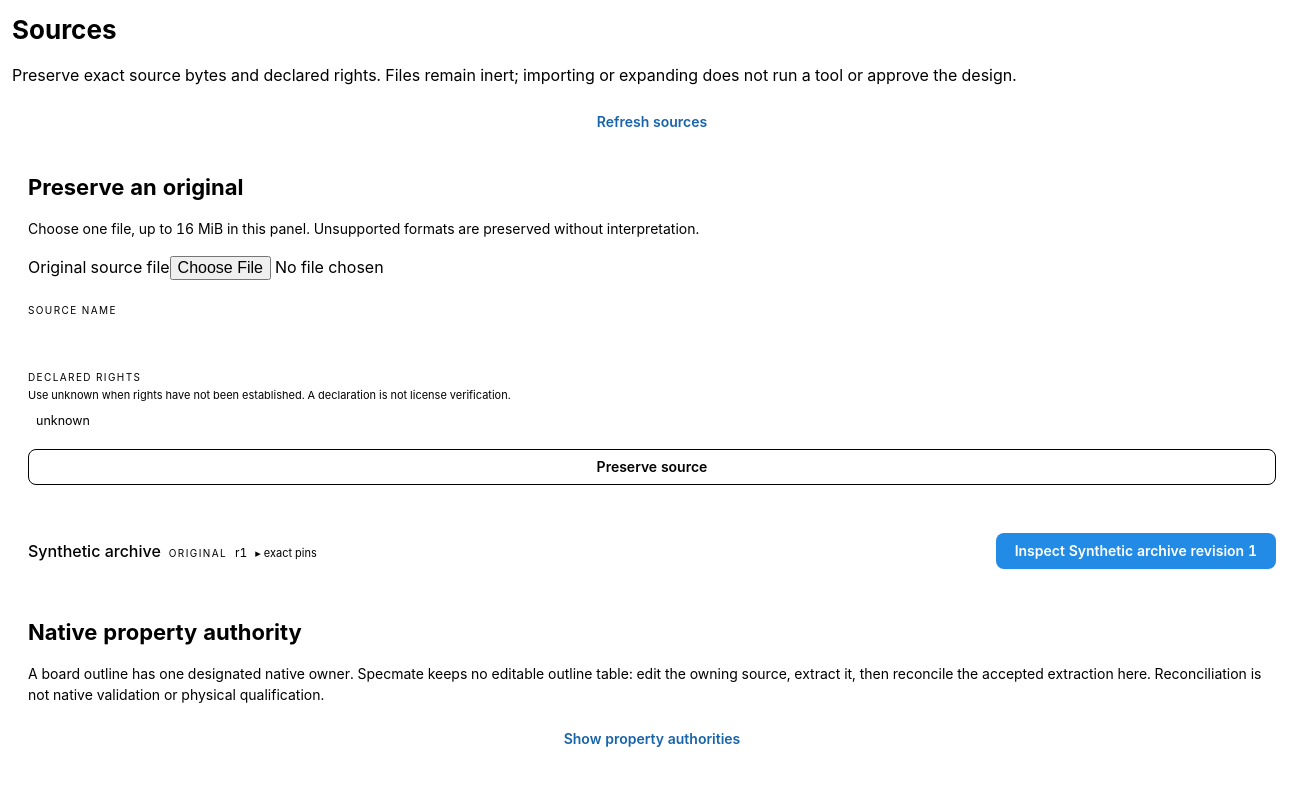
Test: project change discards the prior detail and late response
Step 1. Click the button "Inspect Synthetic archive revision 1" → (1136, 551), box [996,533,1276,569]
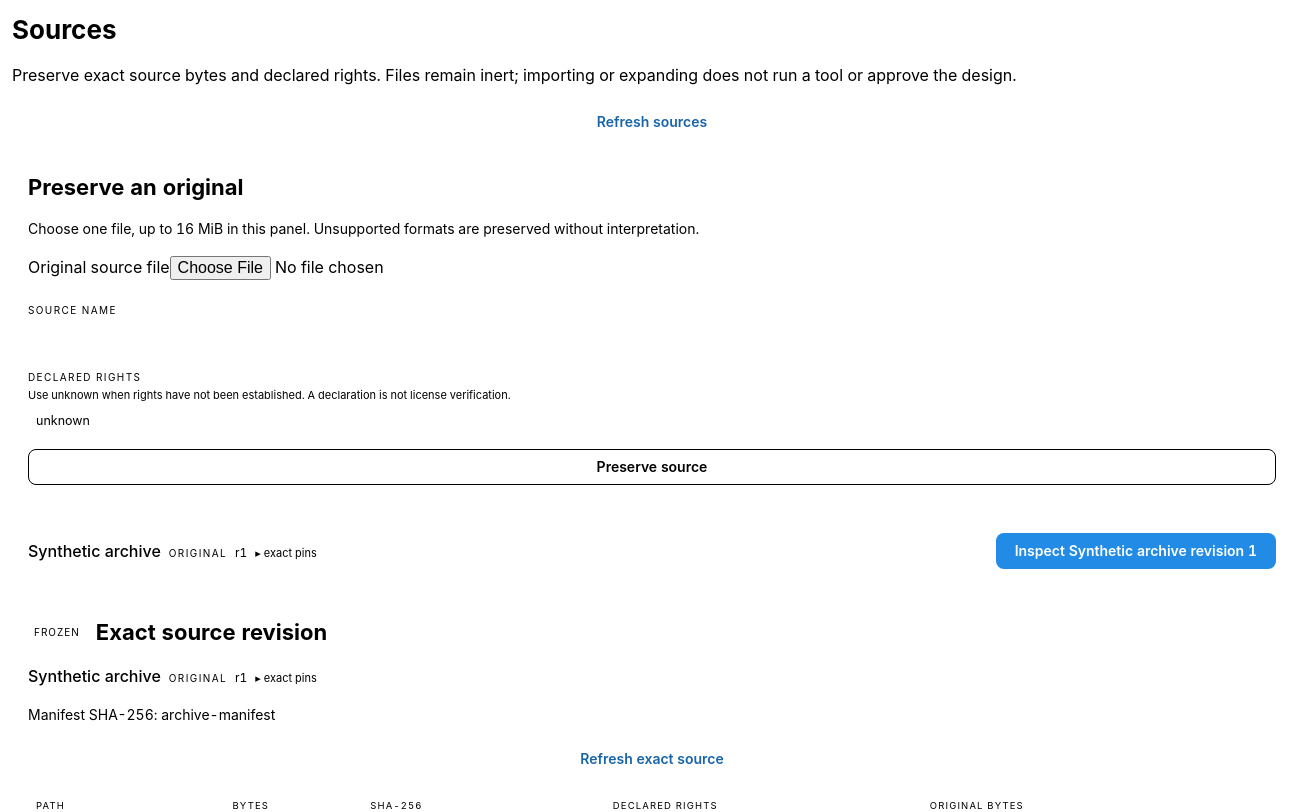
Expected: the heading "Exact source revision" is shown, [96,617,327,648]
